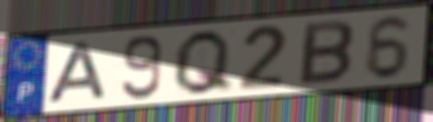2: (236, 22, 292, 94)
6: (364, 13, 414, 83)
9: (121, 34, 165, 101)
A: (45, 40, 110, 106)
B: (295, 18, 357, 88)
Q: (169, 27, 236, 98)
